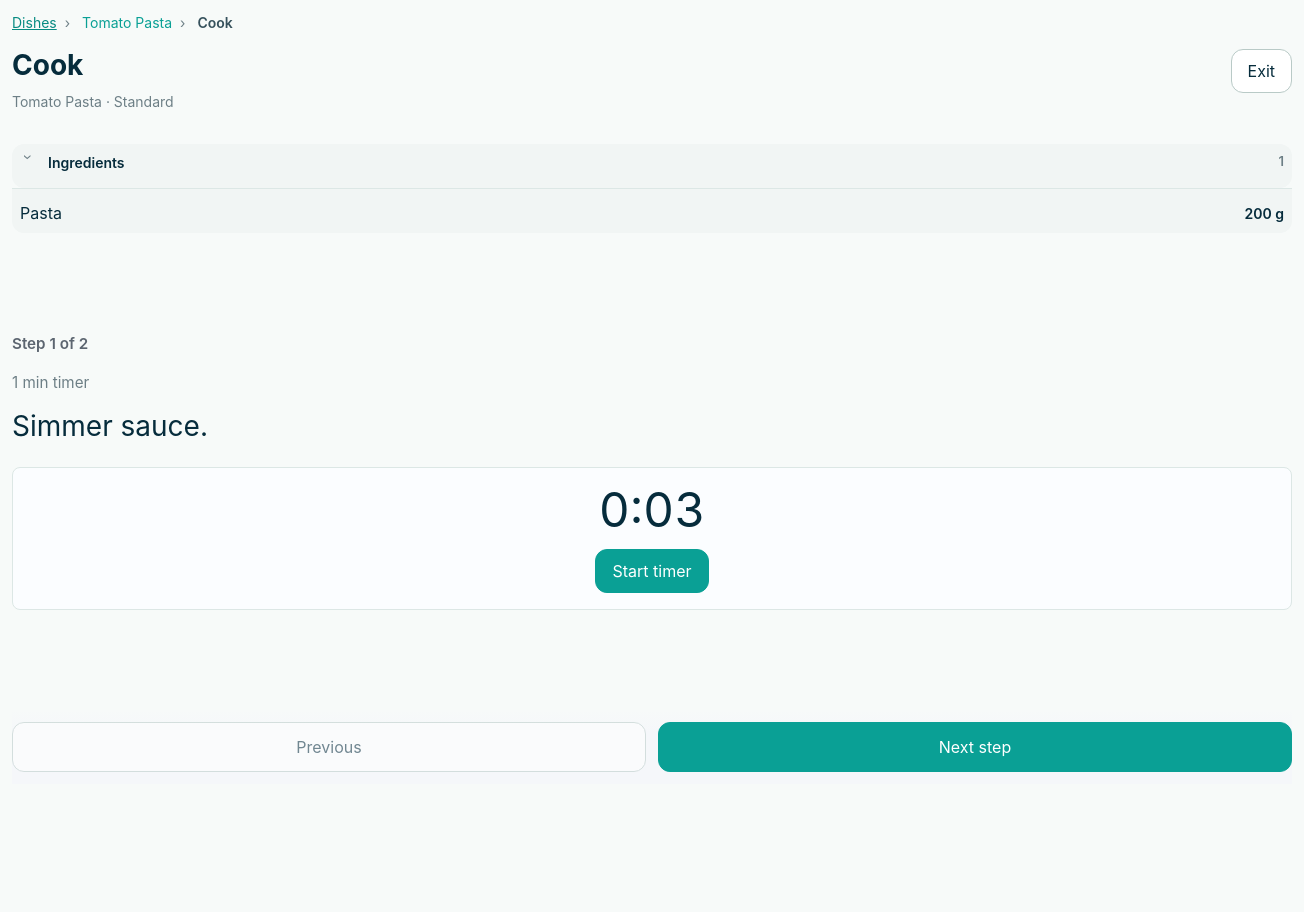
Test: RecipeCookingPage › keeps dismissed timer visible when returning to the step from the bar
Step 1. Click the button "Start timer" → (652, 571), box [596, 549, 708, 593]
Wait 3500 ms
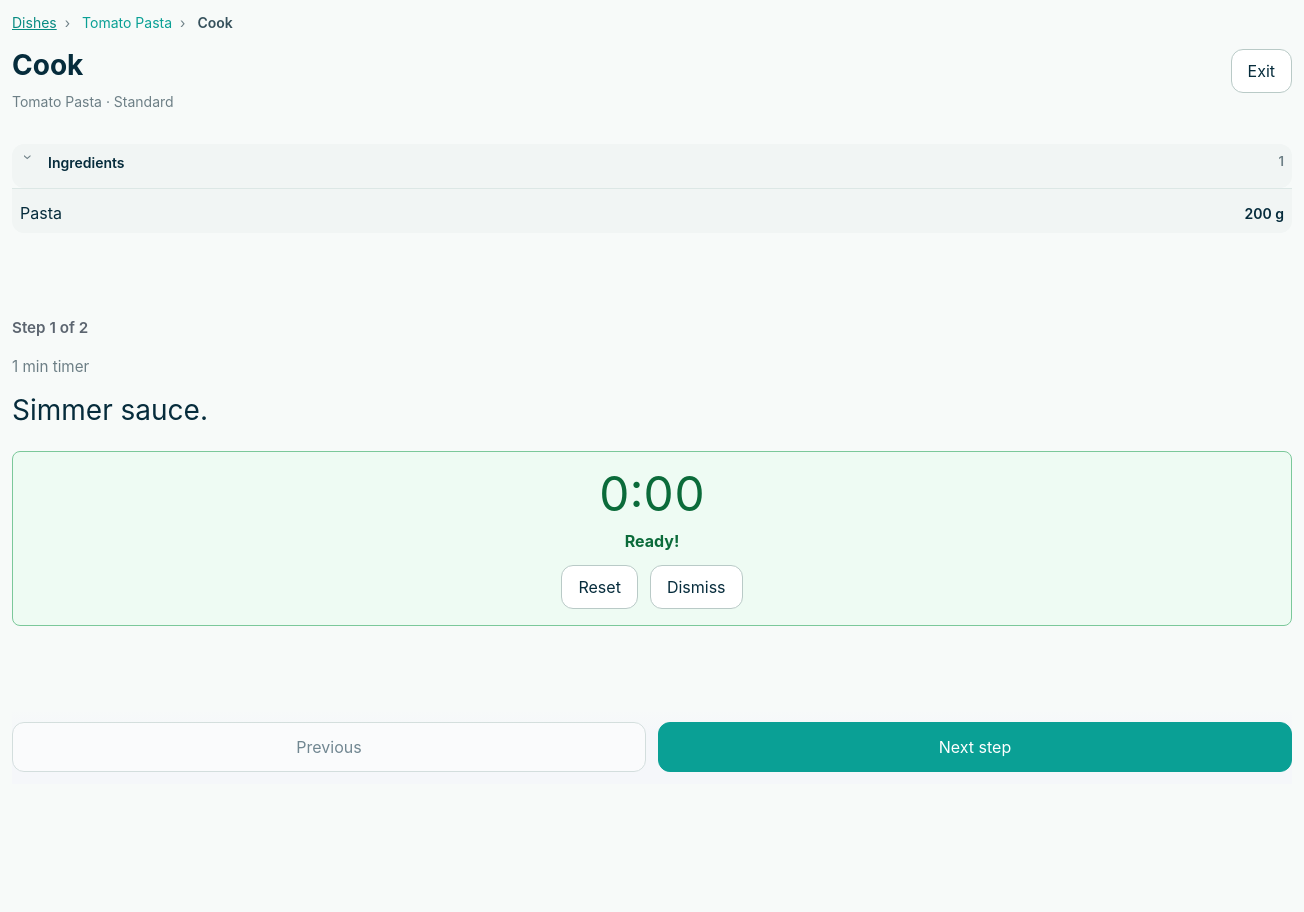
Step 2. Click the button "Next step" → (975, 747), box [658, 722, 1292, 772]
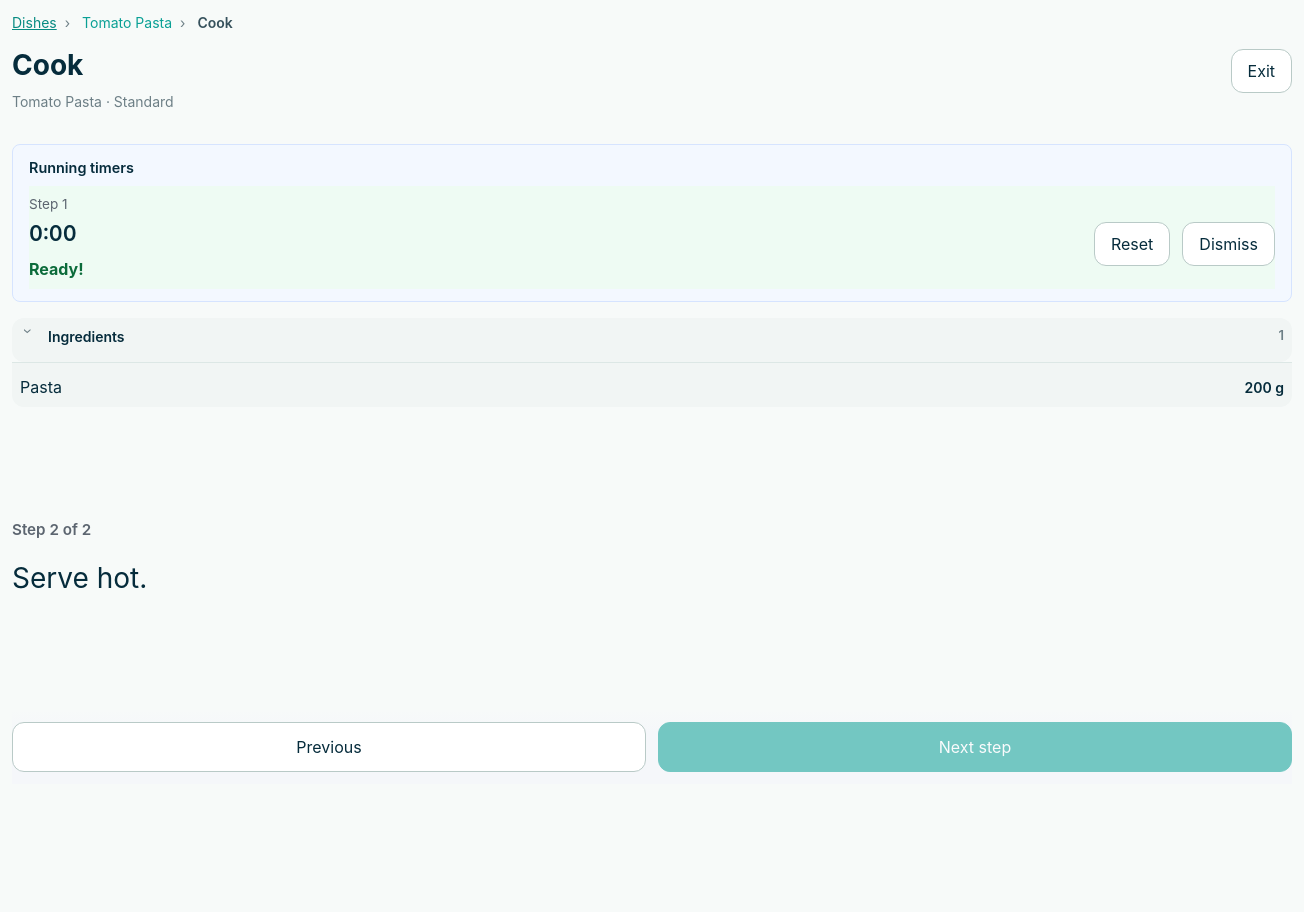
Now the text "Ready!" is shown, box [29, 257, 84, 281]
Step 3. Click the button "Dismiss" → (1229, 244), box [1182, 222, 1275, 266]
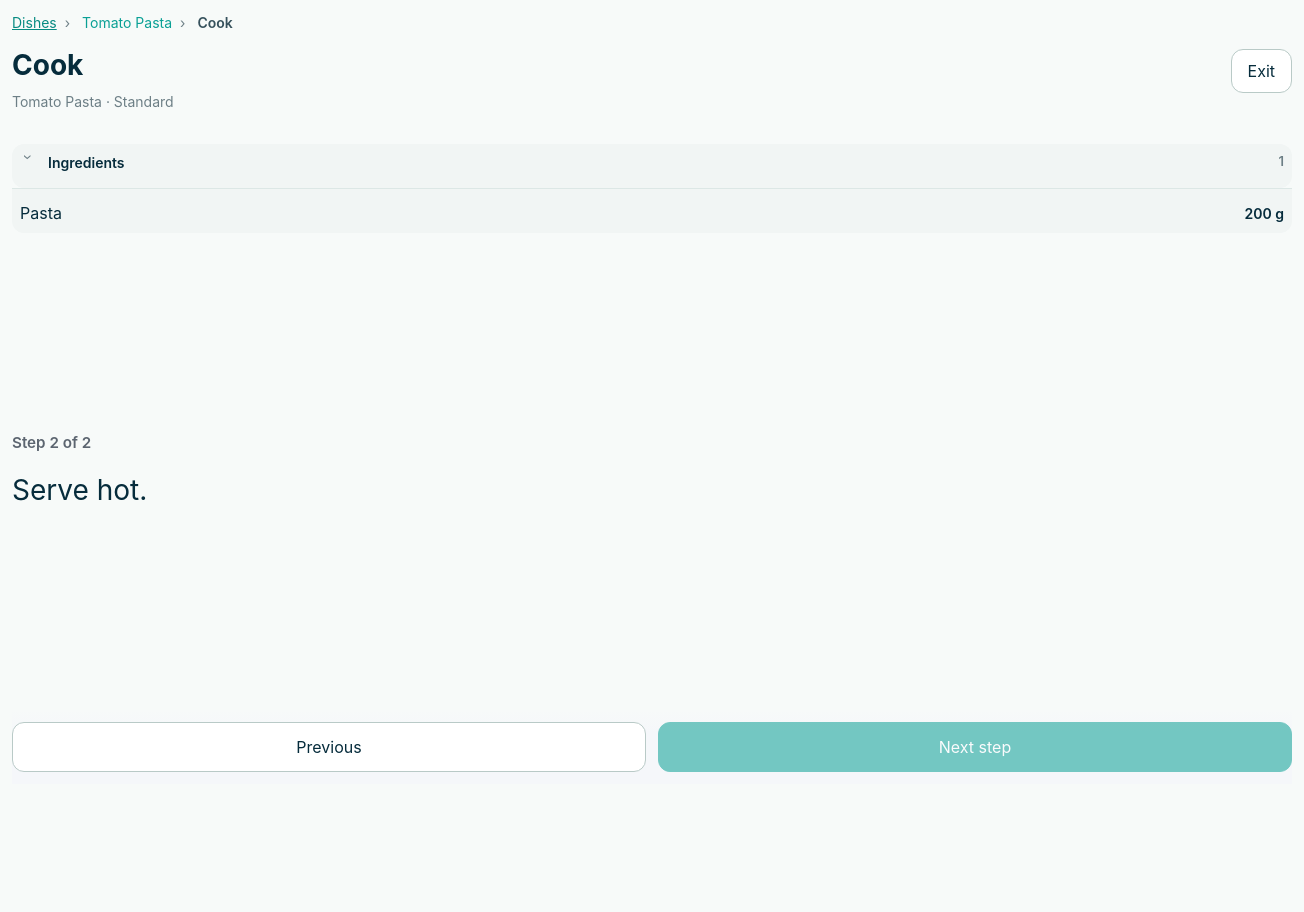
Step 4. Click the button "Previous" → (329, 747), box [12, 722, 646, 772]
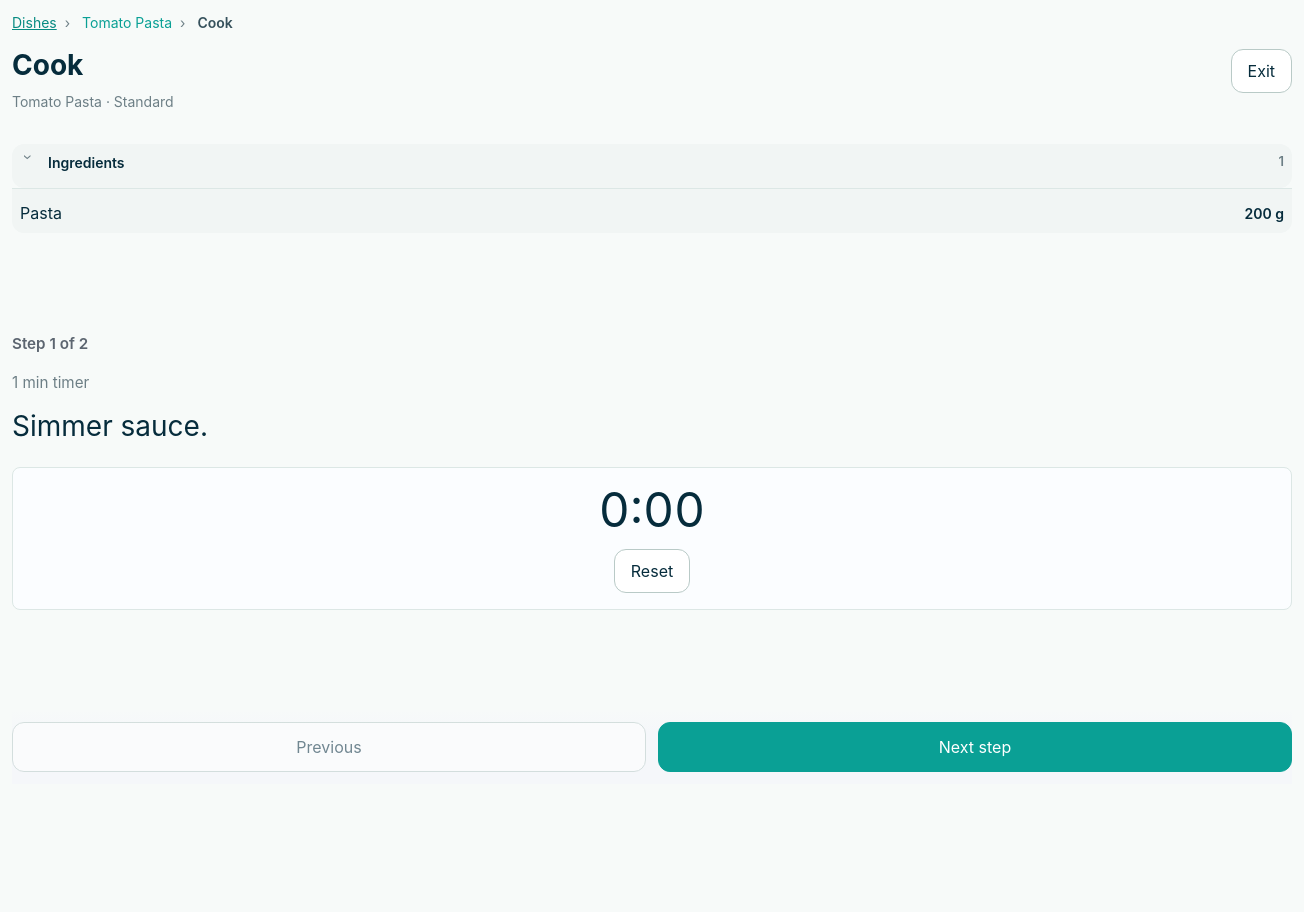
Now the text "0:00" is shown, box [599, 480, 705, 539]
Now the button "Reset" is shown, box [614, 549, 690, 593]
